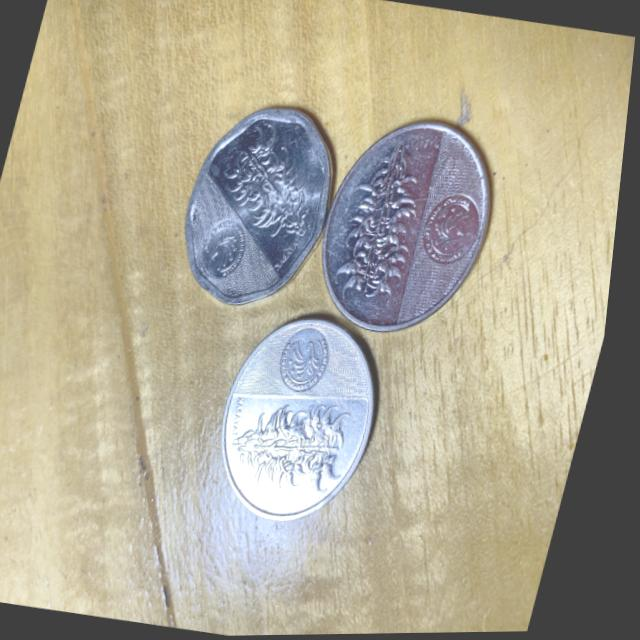5_New_Back: (328, 134, 441, 310), (226, 386, 365, 505), (216, 128, 332, 242)
